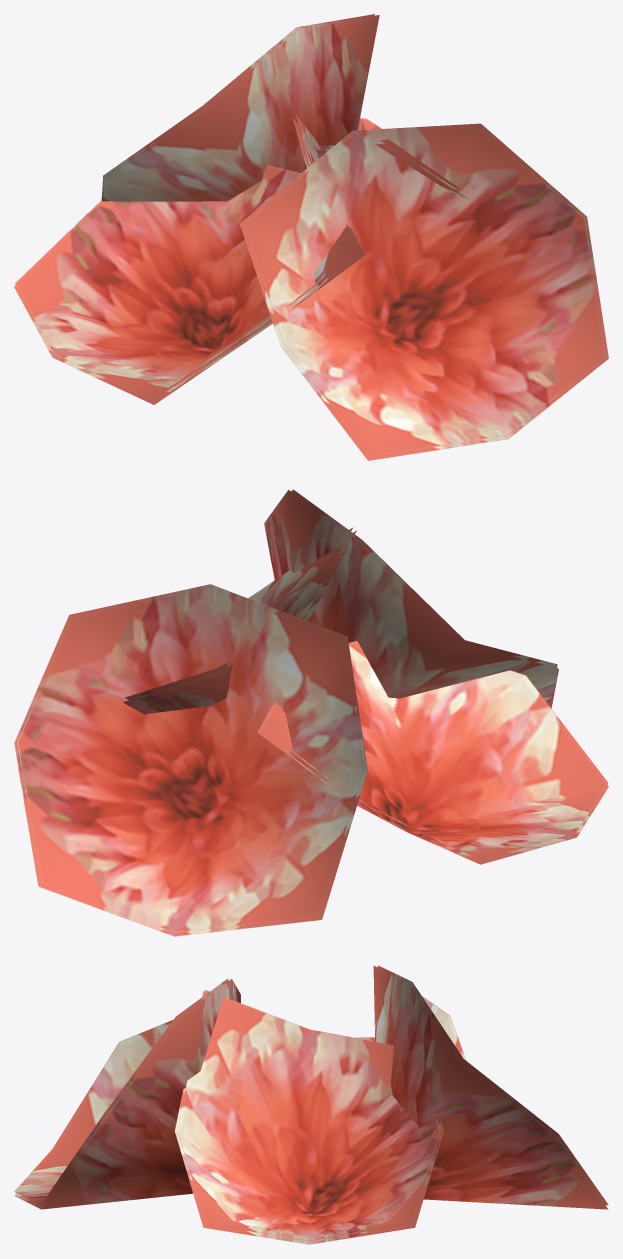
The model's file is flower_salmon_1.fbx.
The picture shows the model from 3 angles, top to bottom: view 1: azimuth 30°, elevation 25°; view 2: azimuth 150°, elevation 25°; view 3: azimuth 270°, elevation 25°; orthographic projection. The views are drawn at different scales.
Parts seen in each view (by area): view 1: flower_salmon_1; view 2: flower_salmon_1; view 3: flower_salmon_1.
Part boxes in pixels (x1,y1,x2,y2): flower_salmon_1: [14, 14, 608, 460]; flower_salmon_1: [14, 489, 608, 936]; flower_salmon_1: [14, 965, 608, 1244].
Size of the model in its own units: 0.8174 by 0.41 by 0.9509.
